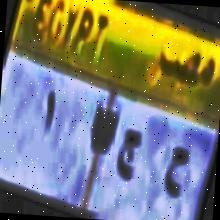1: (42, 80, 59, 140)
7aa: (162, 135, 190, 204)
jeem: (115, 119, 142, 181)
